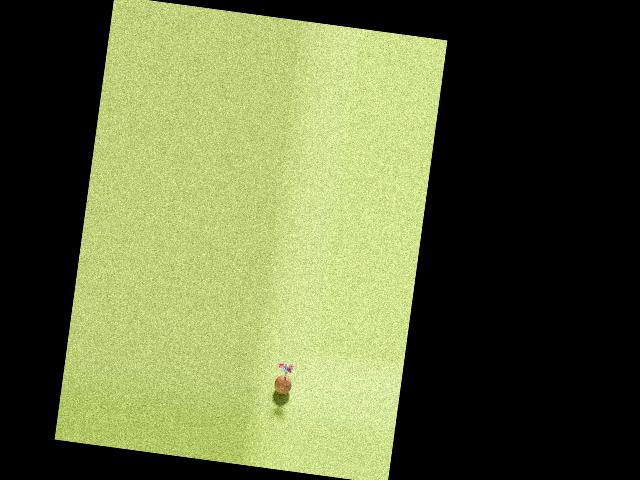egg: (273, 373, 293, 395)
